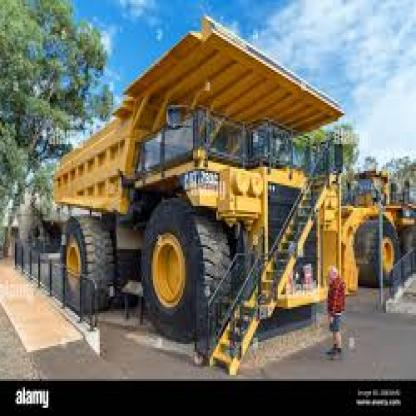dump_truck: (43, 21, 376, 352)
